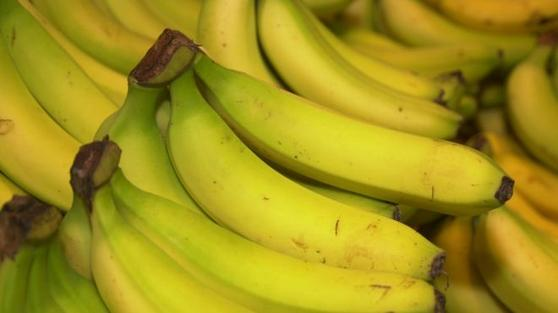banana: (170, 32, 535, 233)
